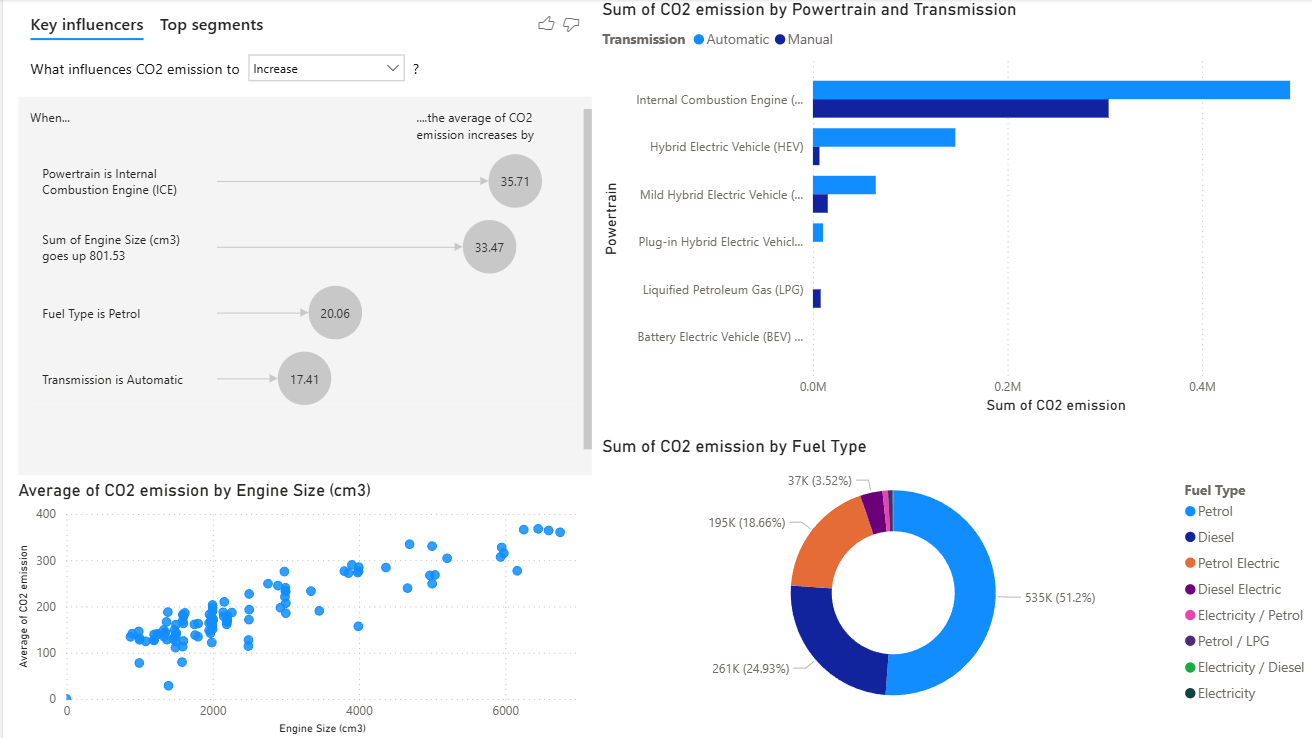

Layout of this report page (visuals, bound fields, positions):
{"tool":"powerbi","page":{"name":"Page 1","canvas":[1280,720],"ordinal":0},"visuals":[{"type":"keyDriversVisual","fields":{"Target":["Vehicles.CO2 emission"],"ExplainBy":["Sum(Vehicles.Engine Size (cm3))","Vehicles.Fuel Type","Vehicles.Powertrain","Vehicles.Transmission"]},"box":[9.7,0,568,467.8],"z":0},{"type":"scatterChart","fields":{"X":["Vehicles.Engine Size (cm3)"],"Y":["Avg(Vehicles.CO2 emission)"]},"box":[9.7,467.8,568,251.9],"z":1000},{"type":"clusteredBarChart","fields":{"Category":["Vehicles.Powertrain"],"Series":["Vehicles.Transmission"],"Y":["Sum(Vehicles.CO2 emission)"]},"box":[577.8,0,702.2,408.5],"z":2000},{"type":"donutChart","fields":{"Category":["Vehicles.Fuel Type"],"Y":["Sum(Vehicles.CO2 emission)"]},"box":[577.8,425,702.2,286],"z":3000}]}

Visuals, with their boxes in screenshot pixels (x1, y1, x2, y2), scaled from the page's 1280x720 canvas onto the 1312x738 screenshot:
keyDriversVisual - Vehicles.CO2 emission x Sum(Vehicles.Engine Size (cm3)): 10 0 592 479
scatterChart - Vehicles.Engine Size (cm3) x Avg(Vehicles.CO2 emission): 10 479 592 737
clusteredBarChart - Vehicles.Powertrain x Vehicles.Transmission: 592 0 1311 419
donutChart - Vehicles.Fuel Type x Sum(Vehicles.CO2 emission): 592 436 1311 729
